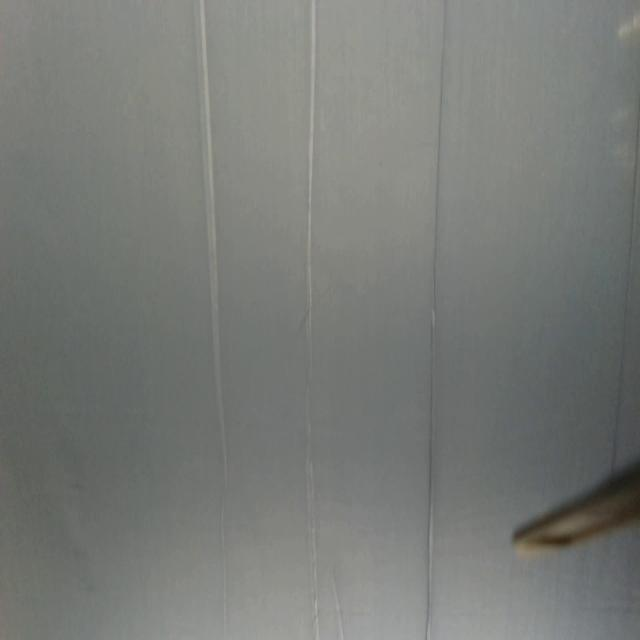crease: (193, 1, 230, 640), (424, 0, 448, 639), (302, 0, 321, 637), (610, 78, 640, 454), (331, 572, 346, 640)
